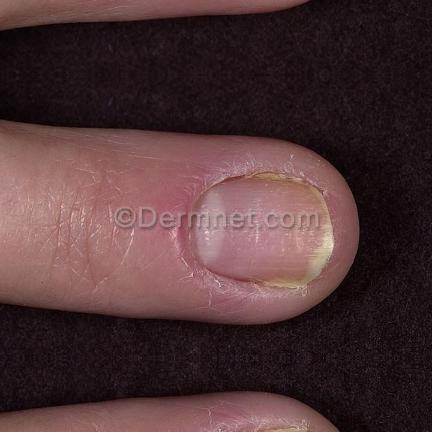Nail: (189, 173, 335, 286), (254, 429, 309, 432)
